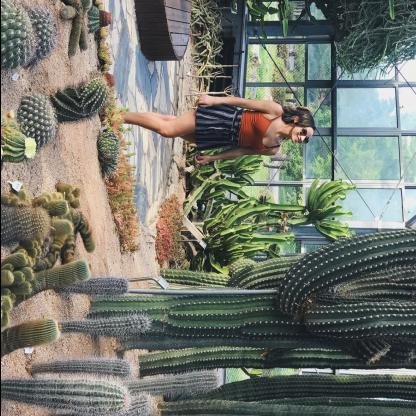Cactus: (0, 6, 37, 78), (16, 90, 57, 148), (26, 9, 59, 59)
